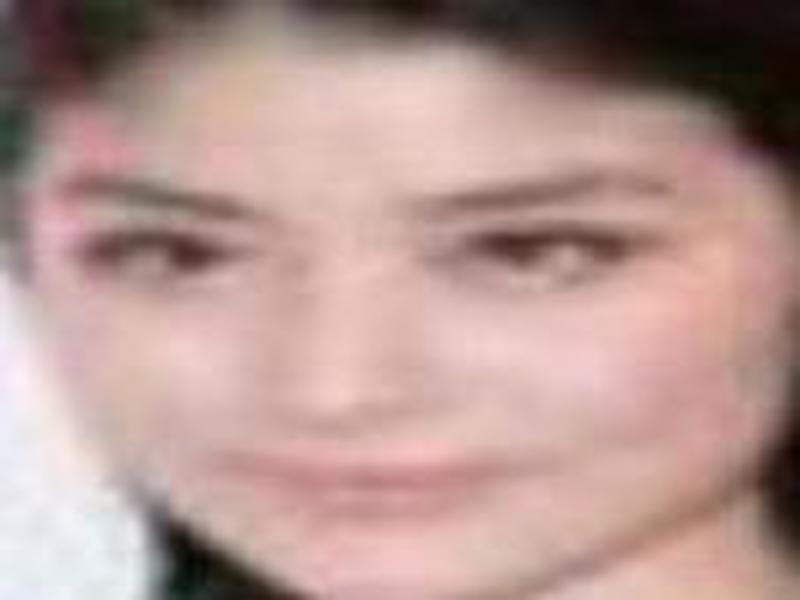without_mask: (17, 23, 766, 595)
